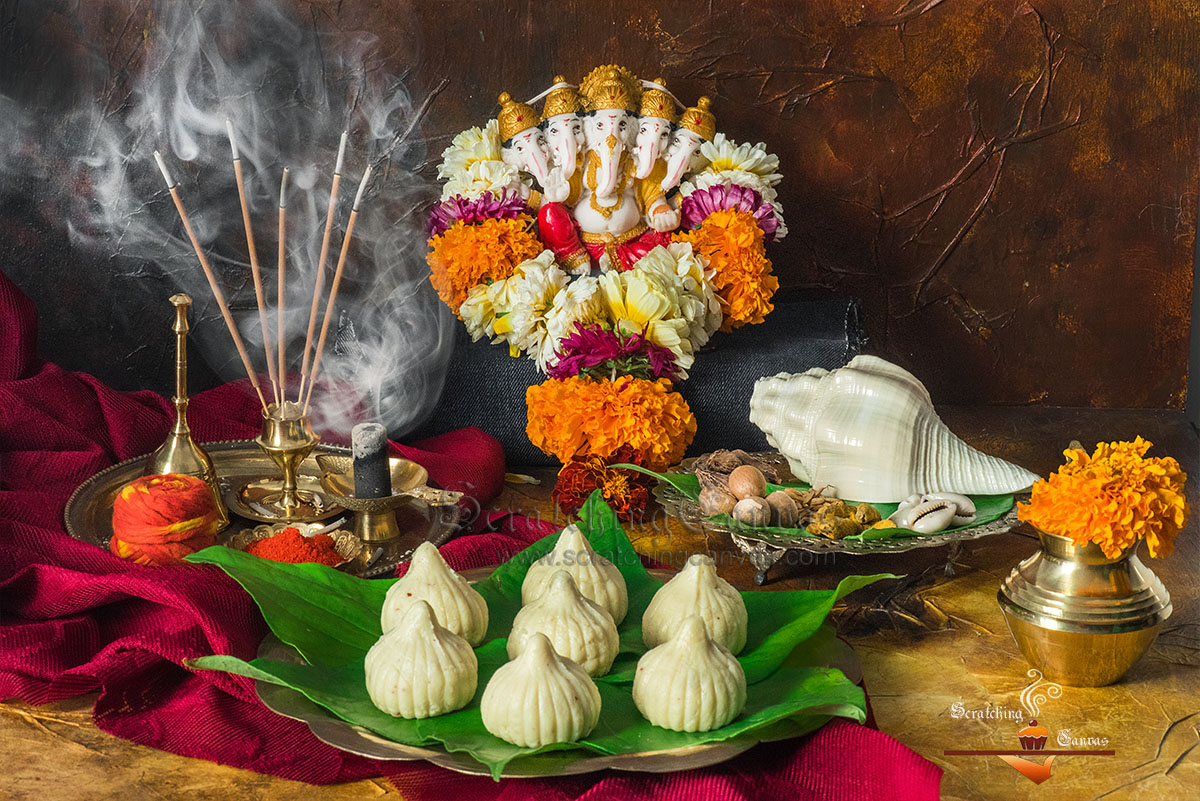modak: (487, 626, 634, 758), (358, 547, 512, 655), (635, 631, 772, 752), (631, 564, 779, 671), (377, 620, 492, 722), (525, 570, 628, 678)
